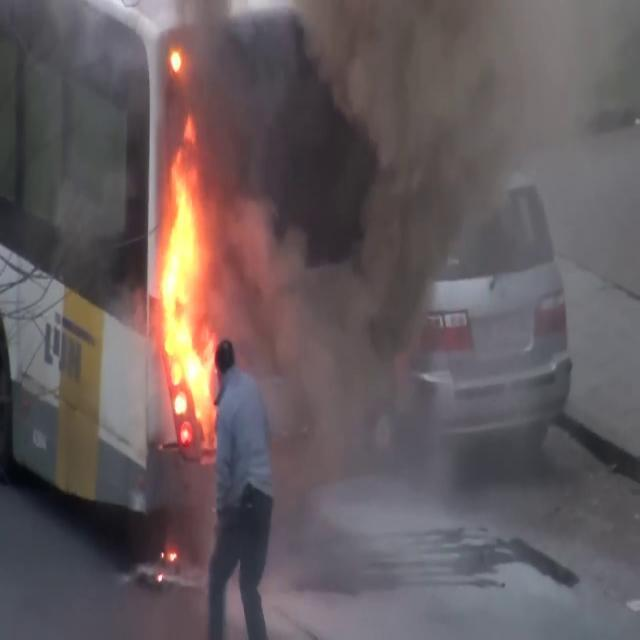Fire: (148, 115, 230, 435)
Smoke: (192, 0, 578, 505)
